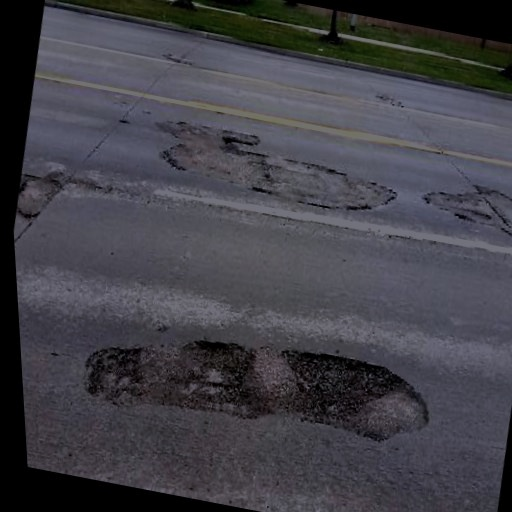pothole: (270, 344, 406, 427), (174, 328, 264, 414), (80, 334, 151, 406), (219, 130, 240, 152)
